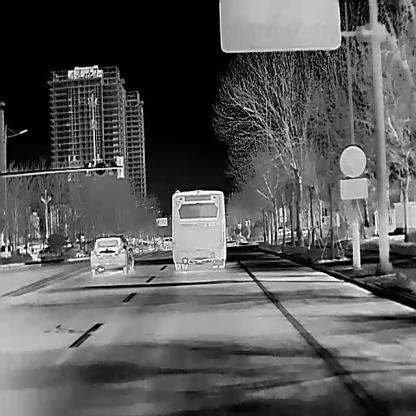car: (171, 189, 225, 269), (89, 235, 135, 274), (163, 237, 173, 251)
